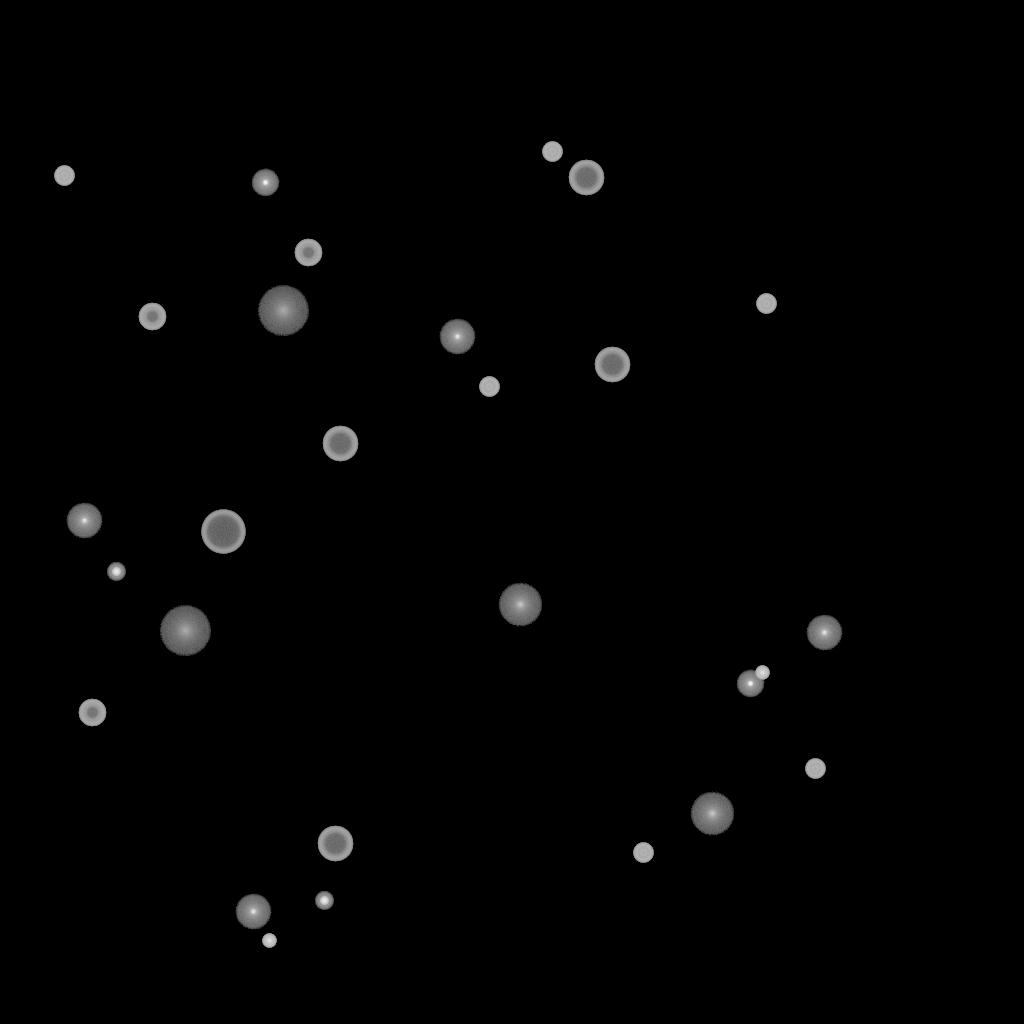depth:-10: (736, 670, 764, 698), (251, 169, 279, 197)
depth:-20: (107, 563, 125, 581), (315, 892, 333, 910)
depth:-30: (755, 666, 769, 680), (262, 934, 276, 948)
depth:-40: (542, 142, 562, 162), (633, 843, 653, 863), (479, 377, 499, 397), (54, 166, 74, 186), (756, 294, 776, 314), (805, 759, 825, 779)
depth:-50: (294, 239, 322, 267), (78, 699, 106, 727), (138, 303, 166, 331)
depth:-60: (568, 160, 604, 196), (317, 826, 353, 862), (594, 347, 630, 383), (322, 426, 358, 462)
depth:-70: (201, 510, 245, 554)
depth:0: (66, 503, 102, 539), (439, 319, 475, 355), (235, 894, 271, 930), (806, 615, 842, 651)
depth:10: (498, 583, 542, 627), (690, 792, 734, 836)
depth:20: (257, 286, 309, 336), (159, 606, 211, 656)
